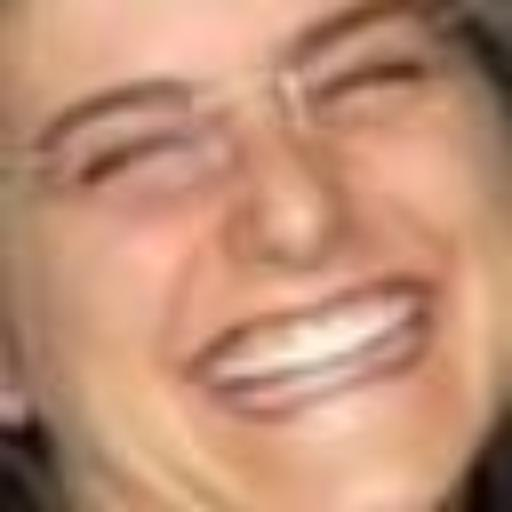left_eye: (310, 40, 432, 117)
left_lip_corner: (399, 280, 461, 335)
right_eye: (75, 116, 199, 195)
right_lip_corner: (173, 354, 240, 402)
